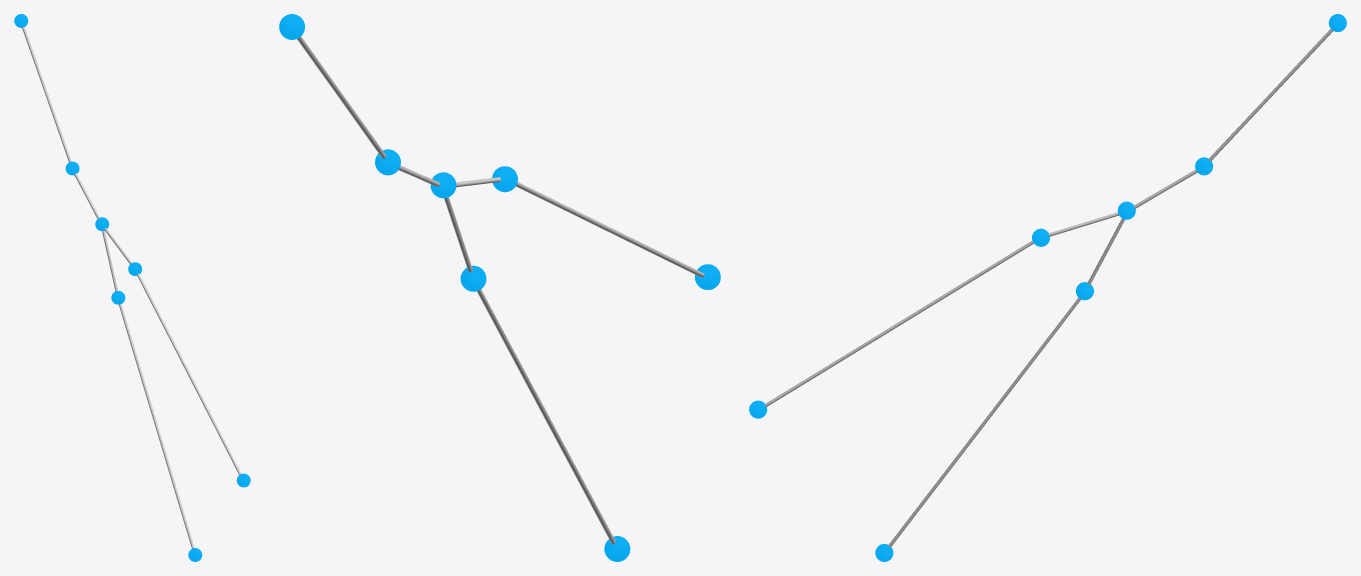
File: Vrishabh.glb
3 renders of one model, left to right at view 1: azimuth 30°, elevation 25°; view 2: azimuth 150°, elevation 25°; view 3: azimuth 270°, elevation 25°, orthographic. The views are drawn at different scales.
Visible parts, largest first — view 1: BézierCurve.002; view 2: BézierCurve.002; view 3: BézierCurve.002.
Boxes of the visible parts, x1,y1,x2,y2 form: BézierCurve.002: [14, 14, 250, 561]; BézierCurve.002: [279, 14, 720, 561]; BézierCurve.002: [749, 14, 1346, 561].
Size of the model in its own units: 0.0939 by 3.12 by 3.1.
